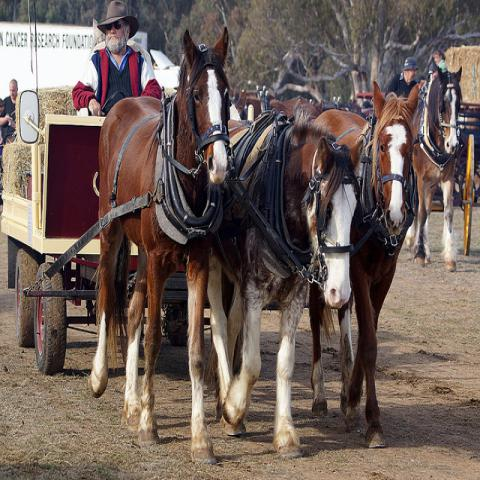truck: (1, 116, 104, 382), (0, 16, 243, 121)
